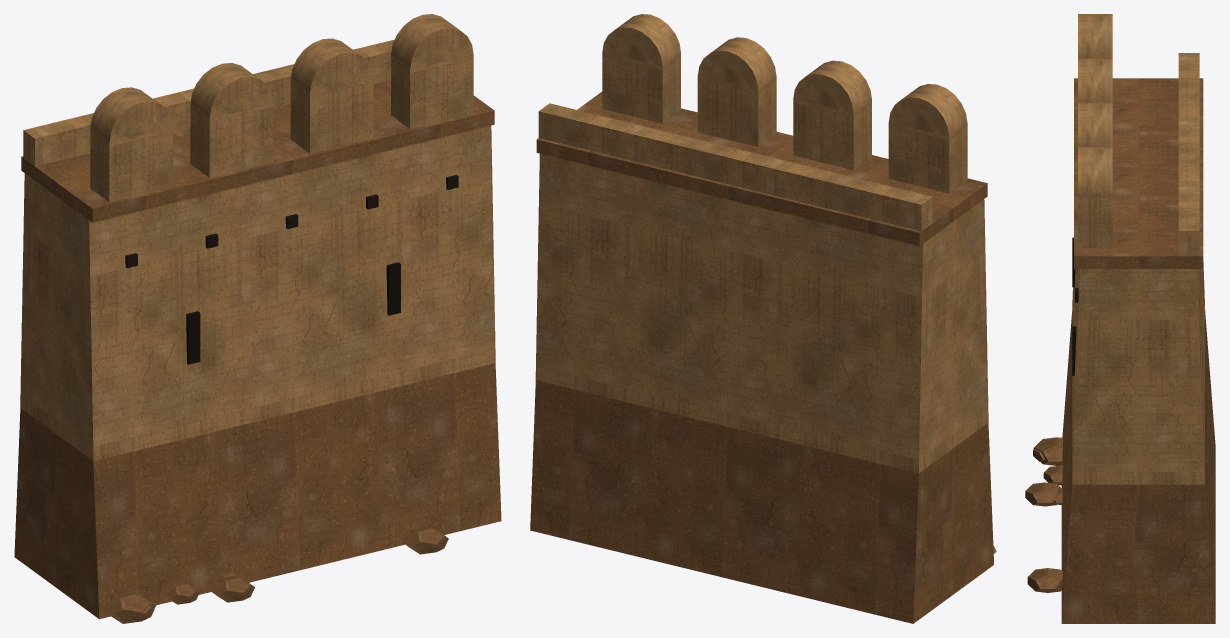
The model's file is B_wall.glb.
The picture shows the model from 3 angles, left to right: view 1: azimuth 30°, elevation 25°; view 2: azimuth 150°, elevation 25°; view 3: azimuth 270°, elevation 25°; orthographic projection. The views are drawn at different scales.
Size of the model in its own units: 6.02 by 7.19 by 2.72.
4 materials, 2 textured.
